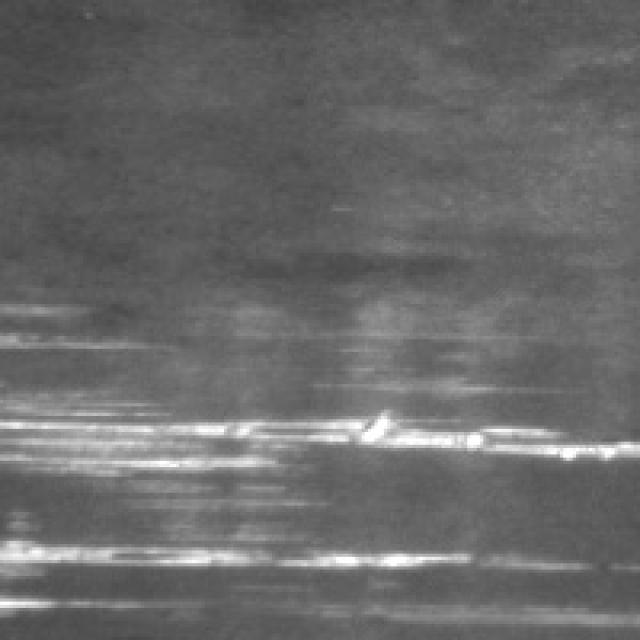scratches: (3, 381, 637, 480), (0, 528, 576, 618)
